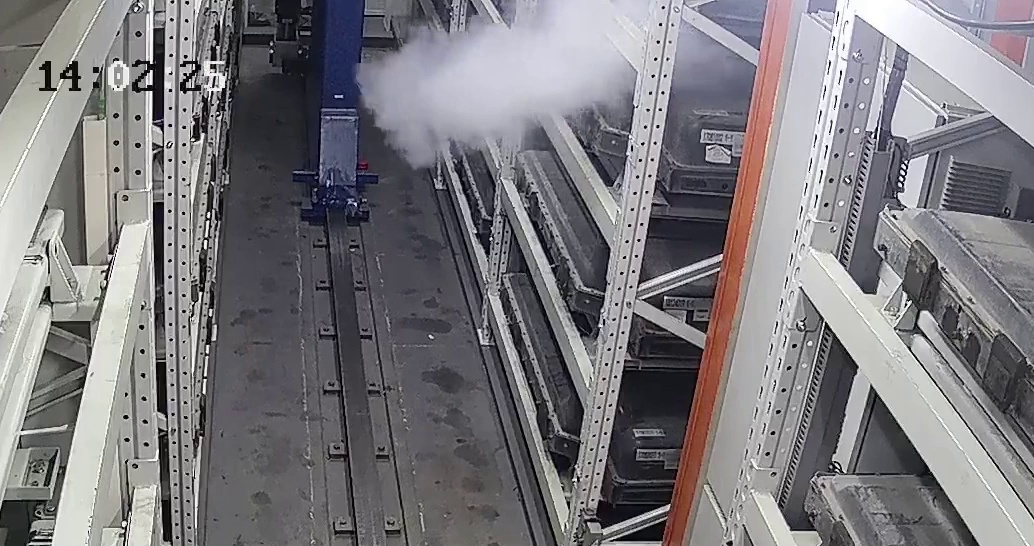smoke: (380, 16, 619, 156)
